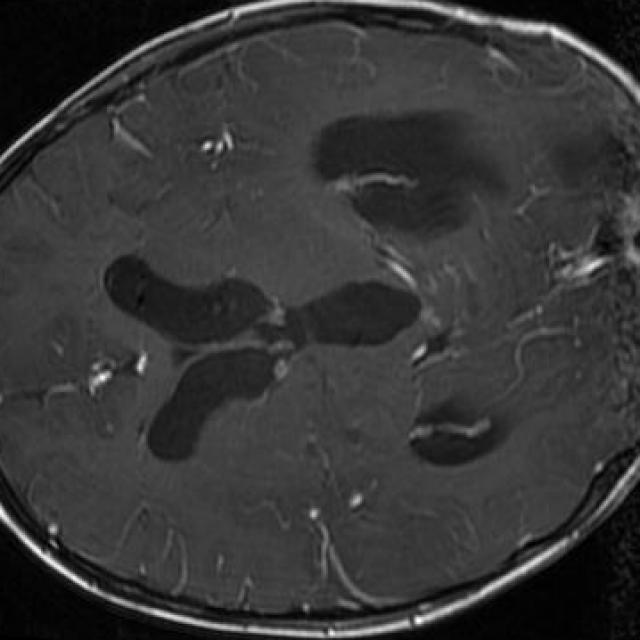glioma: (310, 111, 508, 244)
